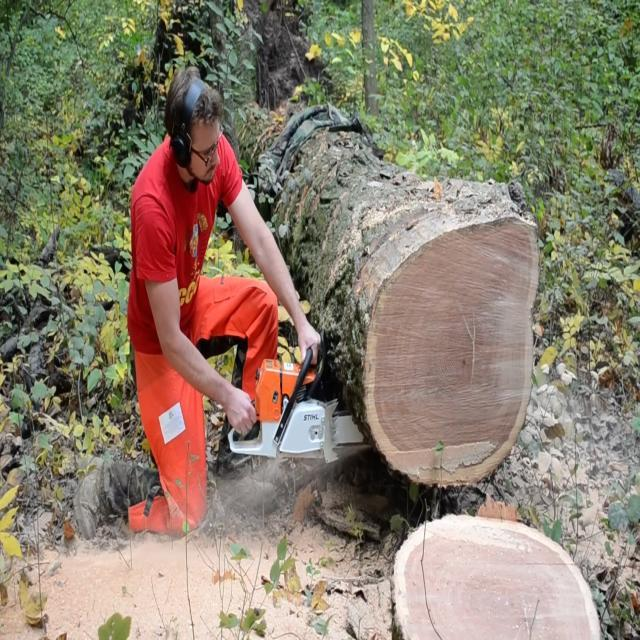Chainsaw: (222, 323, 378, 480)
